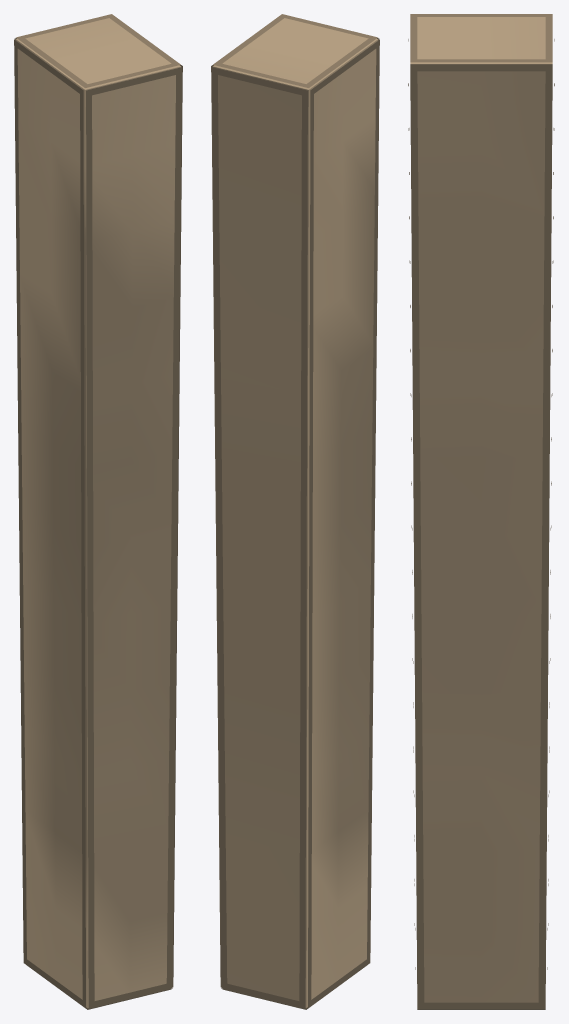
File: key-x.glb
3 views of the same model, side by side, from view 1: azimuth 30°, elevation 25°; view 2: azimuth 150°, elevation 25°; view 3: azimuth 270°, elevation 25° (orthographic). The views are drawn at different scales.
Visible parts, largest first — view 1: key-x; view 2: key-x; view 3: key-x.
Boxes of the visible parts, left/top/right/bottom form: key-x: left=14, top=14, right=182, bottom=1009; key-x: left=211, top=14, right=379, bottom=1009; key-x: left=408, top=14, right=554, bottom=1009.
Bounding box in the file's own units: 0.0248 × 0.2208 × 0.0308.
